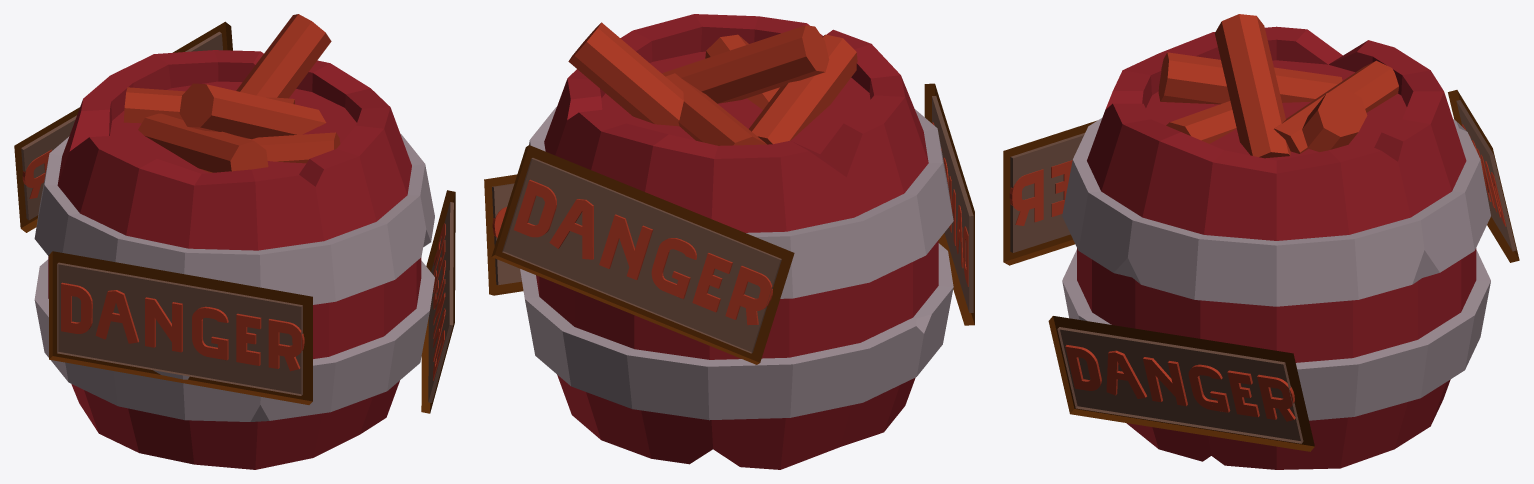
File: barrel4.fbx
3 renders of one model, left to right at view 1: azimuth 30°, elevation 25°; view 2: azimuth 150°, elevation 25°; view 3: azimuth 270°, elevation 25°, orthographic. The views are drawn at different scales.
Parts seen in each view (by area): view 1: Cylinder; view 2: Cylinder; view 3: Cylinder.
Part boxes in pixels (x1,y1,x2,y2): Cylinder: [14, 14, 455, 469]; Cylinder: [484, 14, 974, 469]; Cylinder: [1003, 14, 1519, 469].
Size of the model in its own units: 316 by 242 by 310.
